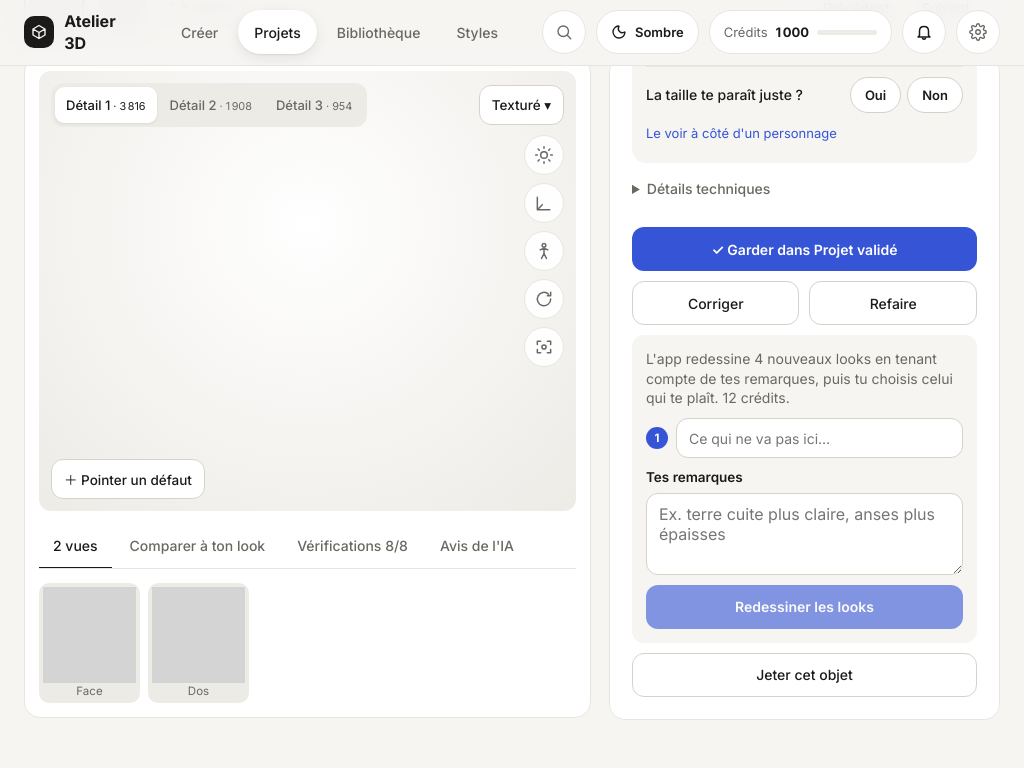
Test: Validation › corriger : une pastille posée sur la 3D ouvre sa ligne ; les remarques partent avec la demande
(page scrolled)
Type "anse trop fine" into the field named "Défaut 1" at [820, 438], box [676,418,963,458]
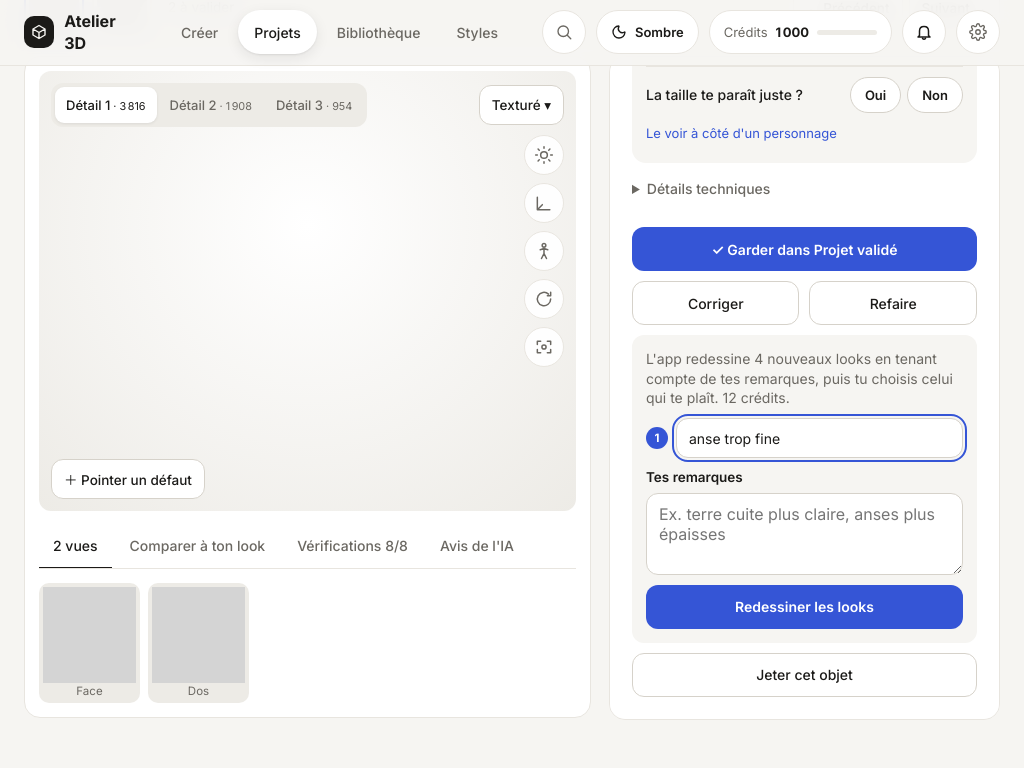
Type "terre cuite plus claire" into the text box labelled "Tes remarques" at [804, 534], box [646,493,963,575]
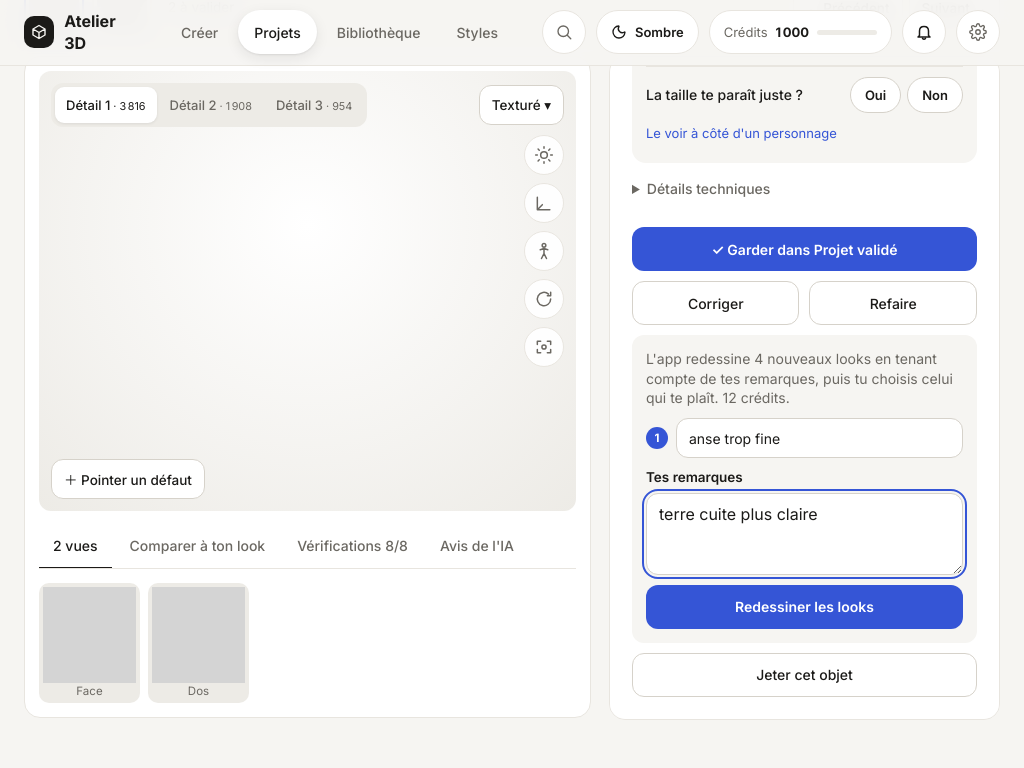
Expected: the text "4 nouveaux looks en tenant compte de tes remarques" shows "12 crédits", [722,389,786,406]
Click the button "Redessiner les looks" at [804, 607], box [646,585,963,629]
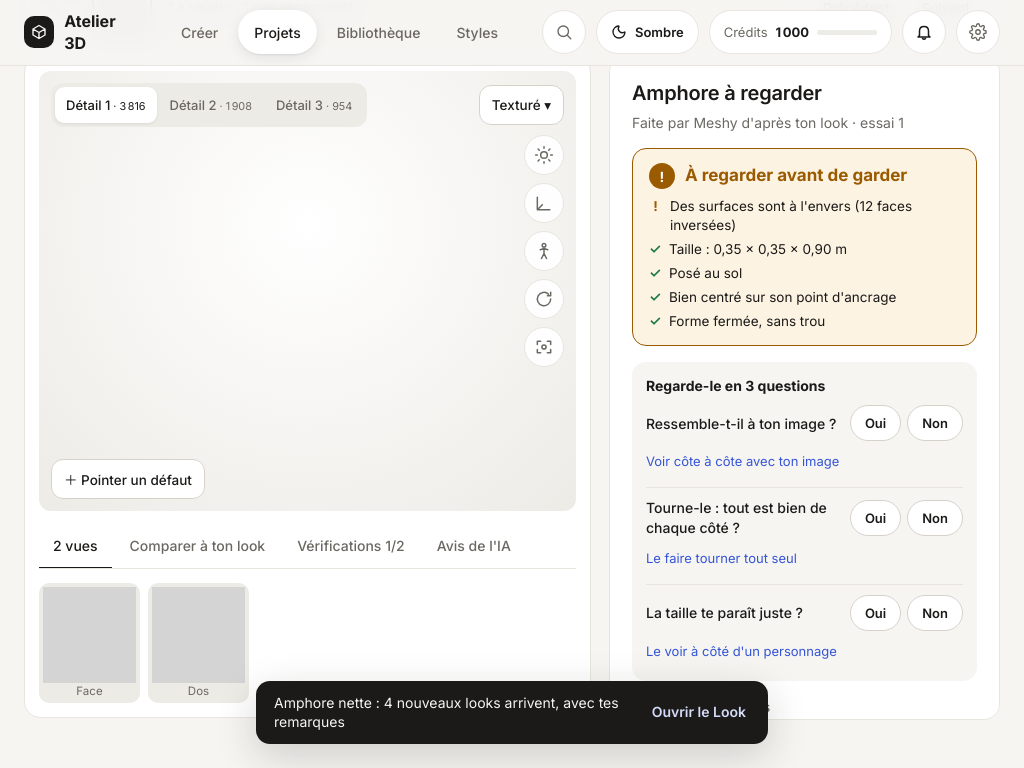
Expected: the message shows "4 nouveaux looks arrivent, avec tes remarques", [274,694,619,730]
